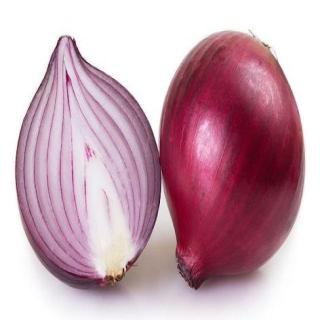Bawang Merah: (158, 29, 308, 295), (14, 33, 162, 289)
